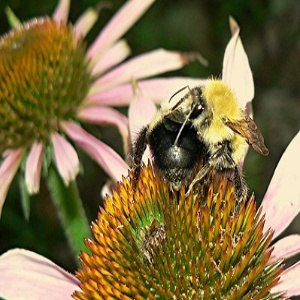bee: (182, 82, 273, 191)
